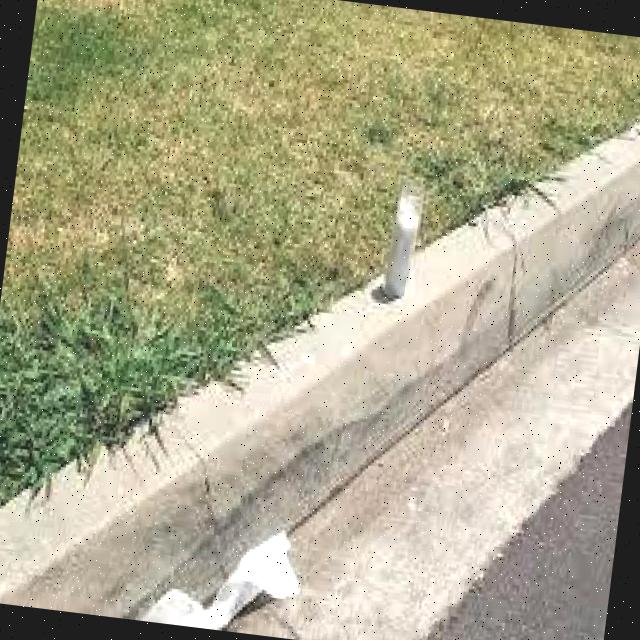curb: (1, 276, 302, 636), (285, 192, 474, 562), (438, 84, 640, 408)
